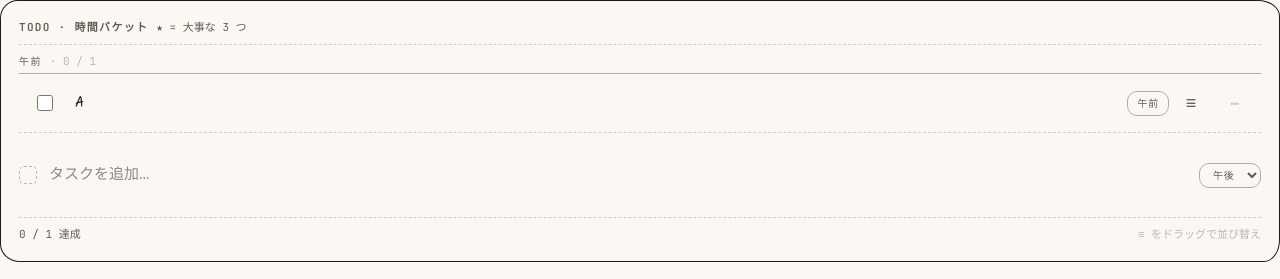
Test: TodoCard › ⋯ メニューが Escape で閉じる + 外側クリックで閉じる (a11y P0)
Click the button named "「A」の操作" at [1235, 103], box [1213,81,1257,125]
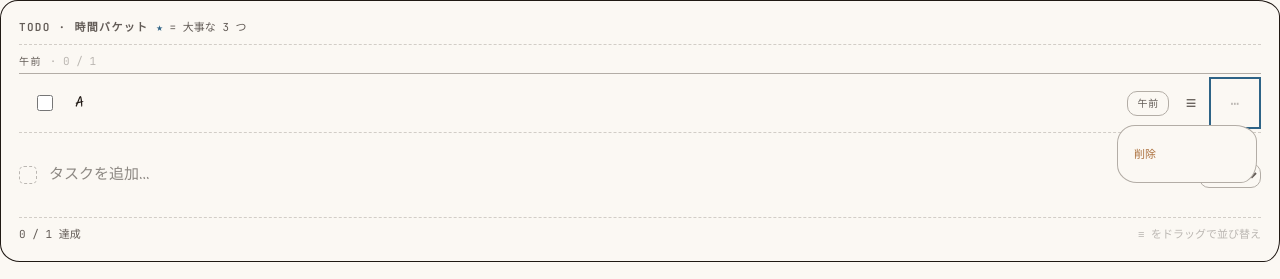
expect the button "削除" is shown: met, box [1124,132,1250,176]
Note: Escape で閉じる
Press Escape
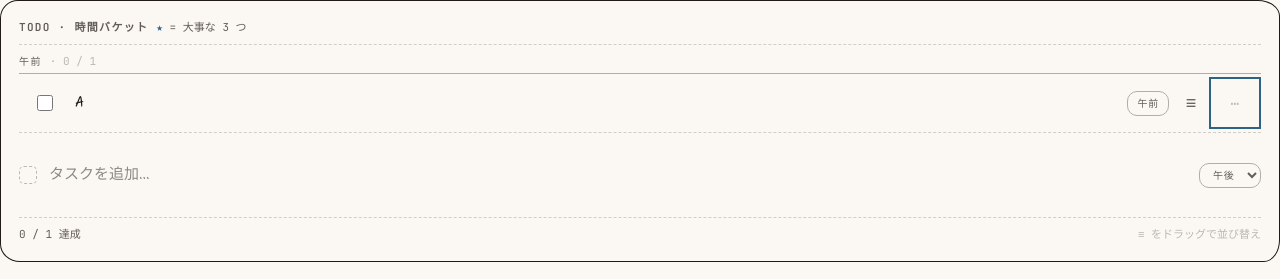
expect the button "削除" is gone: met
